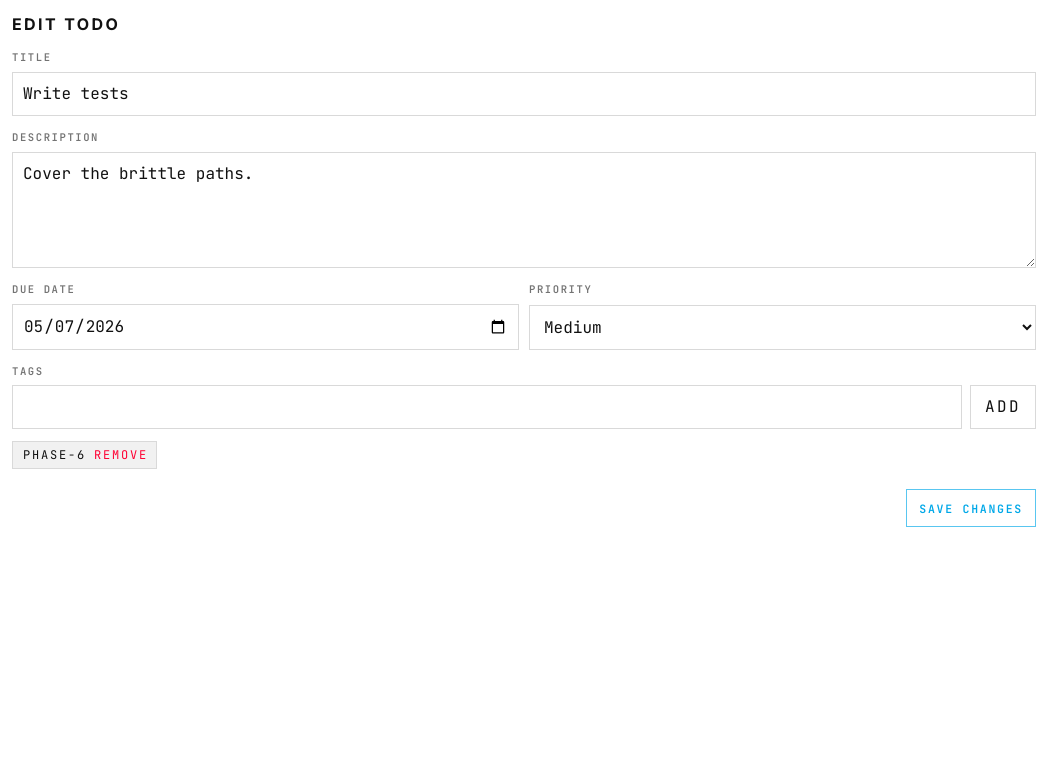
it: todos UI › TodoForm_On409_StaysMounted_ShowsReloadBanner
Click the button with test id "todo-edit-submit" at (971, 508), box [906,489,1036,527]
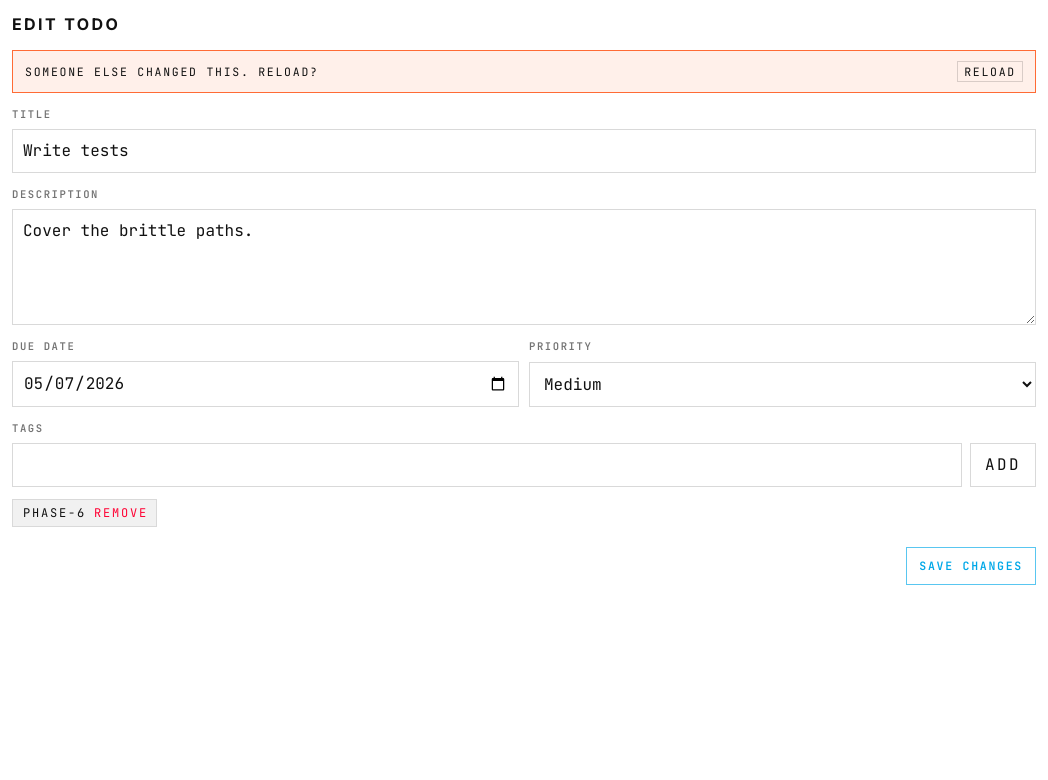
Expected: the button with test id "todo-edit-submit" is shown, [906,547,1036,585]
Now the text "Someone else changed this. Reload?" is shown, box [25,63,319,80]
Now the button "Reload" is shown, box [957,61,1023,82]
